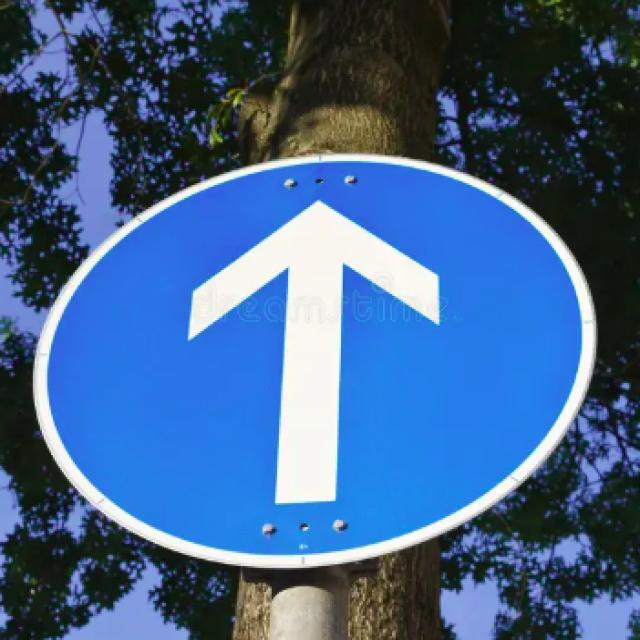STRAIGHT: (35, 154, 596, 590)
